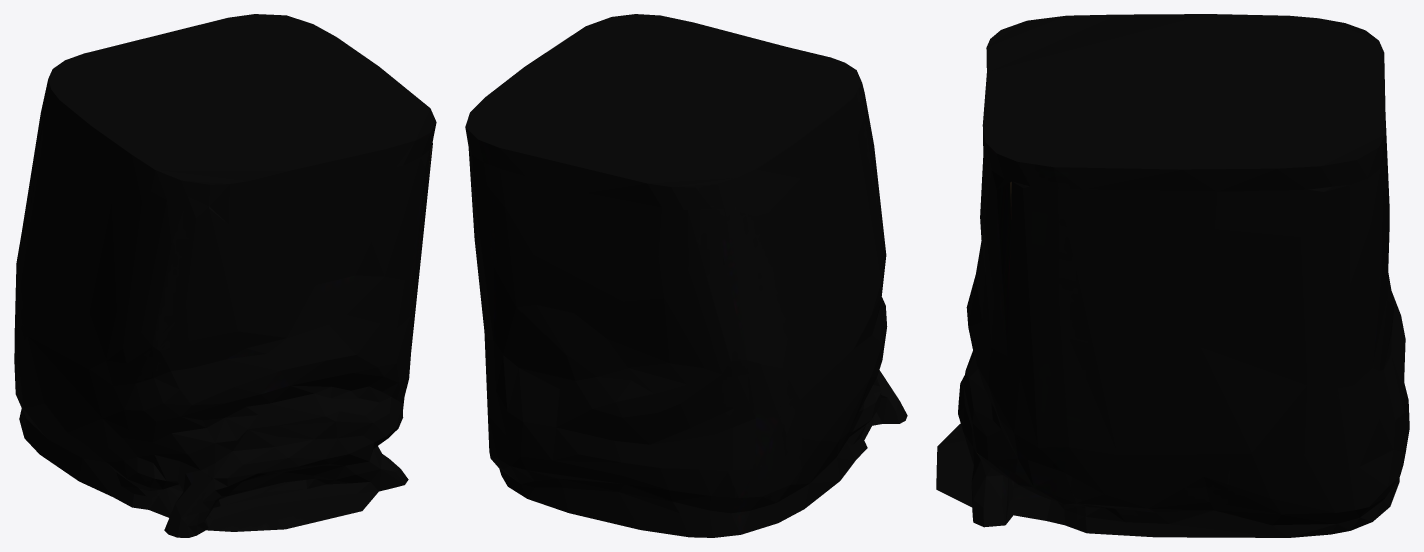
Rendered from RightLowerLeg.glb.
3 views of the same model, side by side, from view 1: azimuth 30°, elevation 25°; view 2: azimuth 150°, elevation 25°; view 3: azimuth 270°, elevation 25° (orthographic). The views are drawn at different scales.
Visible parts, largest first — view 1: RightLowerLeg; view 2: RightLowerLeg; view 3: RightLowerLeg.
Boxes of the visible parts, x1,y1,x2,y2 form: RightLowerLeg: (14, 14, 436, 537); RightLowerLeg: (465, 14, 907, 537); RightLowerLeg: (936, 14, 1409, 537).
Size of the model in its own units: 1.24 by 1.28 by 1.41.
1 material, 1 textured.
